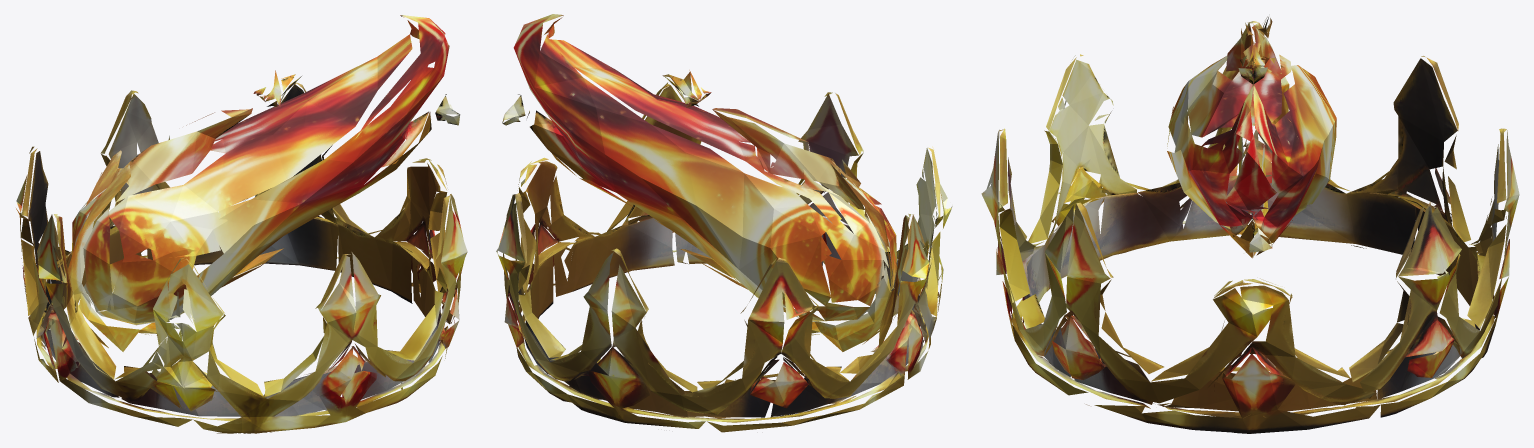
File: cometcrown_lo.glb
The picture shows the model from 3 angles, left to right: view 1: azimuth 30°, elevation 25°; view 2: azimuth 150°, elevation 25°; view 3: azimuth 270°, elevation 25°; orthographic projection. The views are drawn at different scales.
Parts seen in each view (by area): view 1: geometry_0; view 2: geometry_0; view 3: geometry_0.
Part boxes in pixels (x1,y1,x2,y2): geometry_0: (16,15,467,433); geometry_0: (496,14,952,432); geometry_0: (981,16,1519,433).
Size of the model in its own units: 0.969 by 0.6509 by 0.9348.
1 material, 1 textured.
